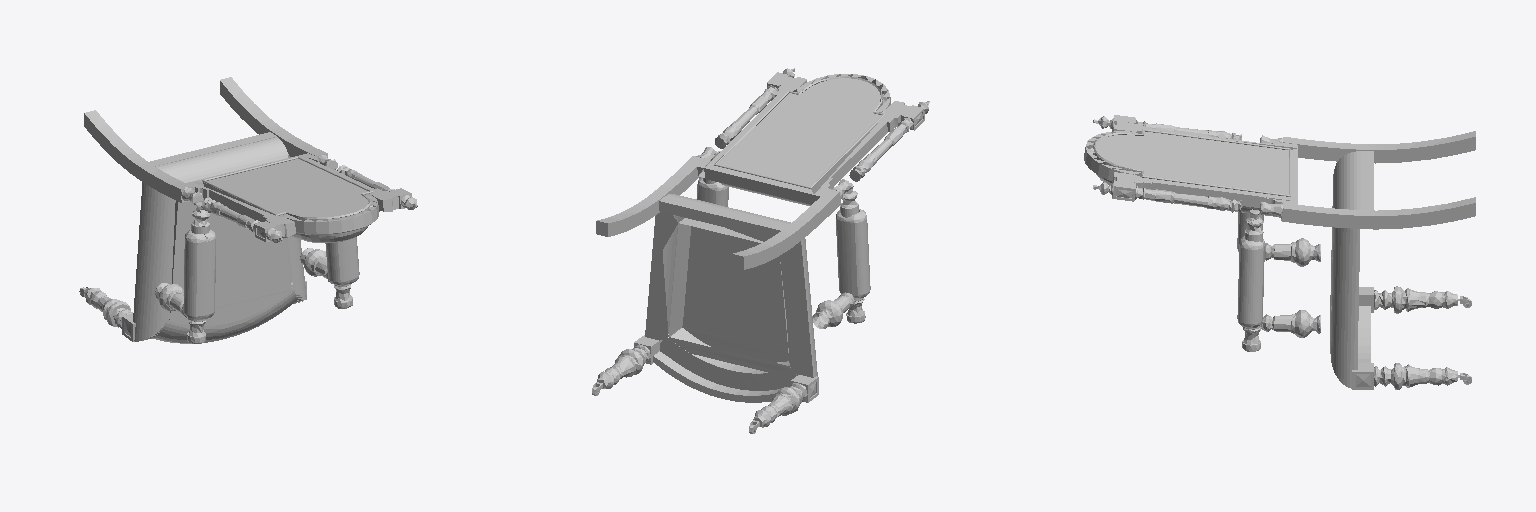
Rendered from chair_0303_QEM_90pct.obj.
3 renders of one model, left to right at view 1: azimuth 30°, elevation 25°; view 2: azimuth 150°, elevation 25°; view 3: azimuth 270°, elevation 25°, orthographic.
Size of the model in its own units: 0.5319 by 0.6185 by 1.